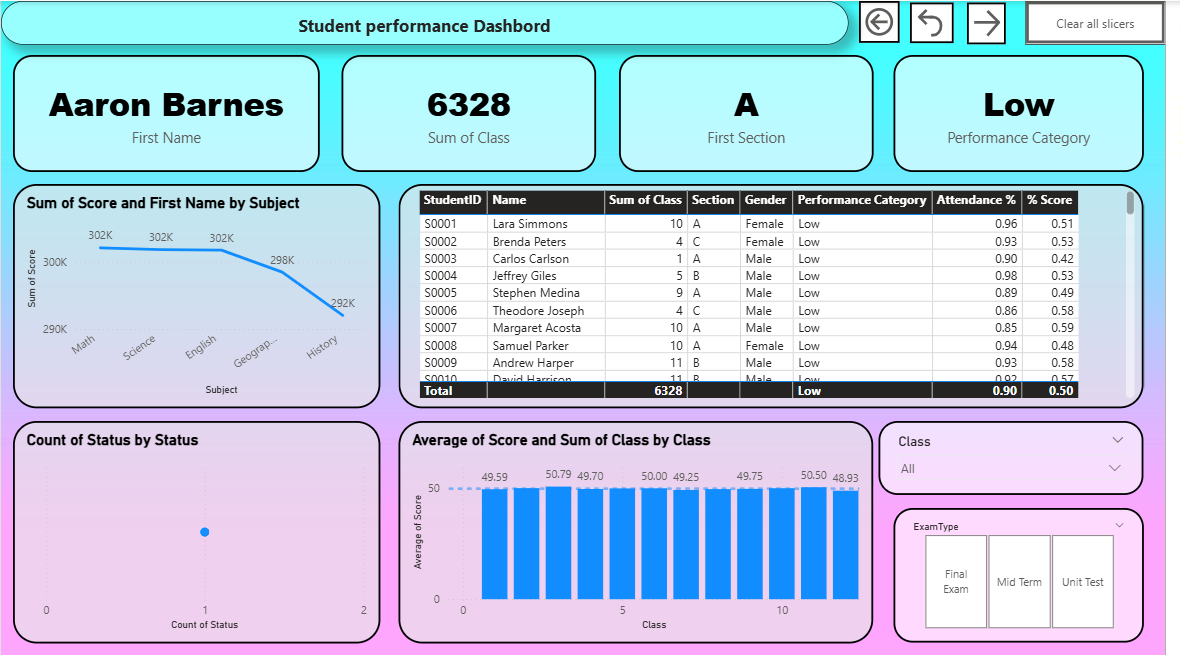

The page's visual inventory and layout, read from the dashboard file:
{"tool":"powerbi","page":{"name":"student detail","canvas":[1280,720],"ordinal":1},"visuals":[{"type":"image","box":[0,0,1280.4,720.5],"z":0},{"type":"clusteredColumnChart","fields":{"Y":["Avg(Scores - Scores csv.Score)"],"Category":["Students - Students csv.Class"]},"box":[437.4,461.3,521.7,245],"z":1000},{"type":"lineChart","fields":{"Category":["Scores - Scores csv.Subject"],"Y":["Sum(Scores - Scores csv.Score)"]},"box":[12.7,200.4,404,246.5],"z":2000},{"type":"scatterChart","fields":{"X":["Count(Attendance - Attendance csv.Status)"],"Category":["Attendance - Attendance csv.Status"]},"box":[12.7,461.3,404,245],"z":3000},{"type":"tableEx","fields":{"Values":["Students - Students csv.StudentID","Students - Students csv.Name","Sum(Students - Students csv.Class)","Students - Students csv.Section","Students - Students csv.Gender","Table.Performance Category","Table.Attendance %","Table.% Score"]},"box":[437.4,200.4,819.2,246.5],"z":4000},{"type":"card","fields":{"Values":["Min(Students - Students csv.Name)"]},"box":[12.7,58.9,337.2,128.8],"z":5000},{"type":"card","fields":{"Values":["Sum(Students - Students csv.Class)"]},"box":[373.8,58.9,279.9,128.8],"z":6000},{"type":"card","fields":{"Values":["Min(Students - Students csv.Section)"]},"box":[679.2,58.9,279.9,128.8],"z":7000},{"type":"card","fields":{"Values":["Table.Performance Category"]},"box":[981.4,58.9,275.2,128.8],"z":8000},{"type":"actionButton","box":[1126.2,0,154.3,47.7],"z":9000},{"type":"actionButton","box":[943.2,0,44.5,46.1],"z":10000},{"type":"actionButton","box":[998.9,1.6,47.7,44.5],"z":11000},{"type":"slicer","fields":{"Values":["Students - Students csv.Class"]},"box":[965.5,461.3,291.1,81.1],"z":12000},{"type":"actionButton","box":[1062.5,1.6,42.9,46.1],"z":13000},{"type":"slicer","fields":{"Values":["Scores - Scores csv.ExamType"]},"box":[981.4,558.3,275.2,147.9],"z":14000},{"type":"textbox","box":[0,0,932.1,47.7],"z":15000}]}

Visuals, with their boxes in screenshot pixels (x1, y1, x2, y2), scaled from the page's 1280x720 canvas onto the 1180x655 screenshot:
image: [0, 0, 1179, 654]
clusteredColumnChart - Avg(Scores - Scores csv.Score) x Students - Students csv.Class: [403, 420, 884, 643]
lineChart - Scores - Scores csv.Subject x Sum(Scores - Scores csv.Score): [12, 182, 384, 407]
scatterChart - Count(Attendance - Attendance csv.Status) x Attendance - Attendance csv.Status: [12, 420, 384, 643]
tableEx - Students - Students csv.StudentID x Students - Students csv.Name: [403, 182, 1158, 407]
card - Min(Students - Students csv.Name): [12, 54, 323, 171]
card - Sum(Students - Students csv.Class): [345, 54, 603, 171]
card - Min(Students - Students csv.Section): [626, 54, 884, 171]
card - Table.Performance Category: [905, 54, 1158, 171]
actionButton: [1038, 0, 1179, 43]
actionButton: [870, 0, 911, 42]
actionButton: [921, 1, 965, 42]
slicer - Students - Students csv.Class: [890, 420, 1158, 493]
actionButton: [979, 1, 1019, 43]
slicer - Scores - Scores csv.ExamType: [905, 508, 1158, 642]
textbox: [0, 0, 859, 43]
